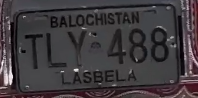TLY488: (4, 4, 190, 94)
